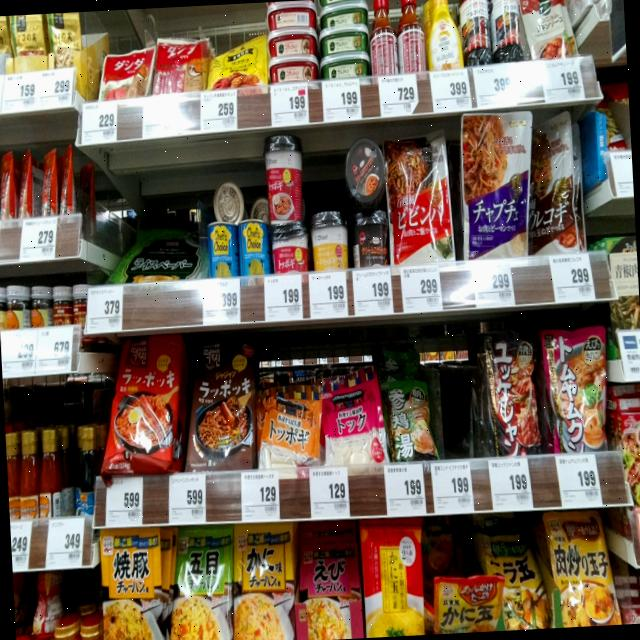objects: (554, 449, 604, 509), (487, 454, 536, 514), (431, 457, 477, 517), (548, 249, 597, 303), (383, 458, 427, 518), (308, 462, 352, 521), (101, 474, 149, 528), (166, 470, 210, 526), (44, 512, 88, 568), (240, 466, 282, 523), (398, 262, 444, 312), (352, 266, 396, 318), (471, 261, 517, 309), (84, 282, 126, 334), (262, 272, 304, 323), (428, 64, 472, 112), (539, 57, 586, 101), (200, 275, 243, 323), (306, 268, 349, 316), (376, 72, 422, 116), (322, 74, 364, 122), (200, 86, 240, 136), (474, 62, 516, 109), (269, 80, 310, 128), (80, 102, 120, 148), (20, 218, 60, 261), (40, 69, 76, 111), (5, 72, 42, 112), (10, 518, 37, 572), (610, 148, 634, 196), (0, 74, 5, 113)
